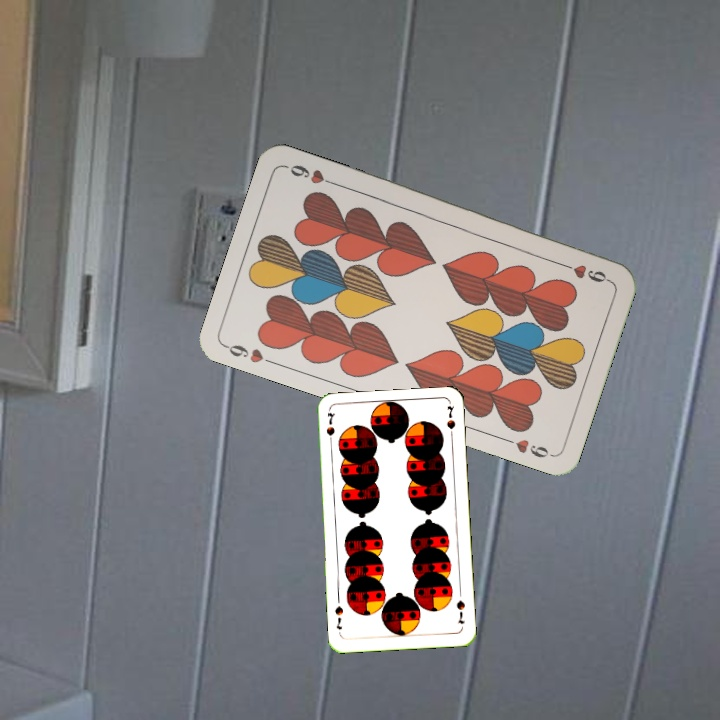H9: (221, 340, 279, 368), (555, 258, 612, 285)
S7: (322, 409, 337, 448), (452, 596, 468, 627)
